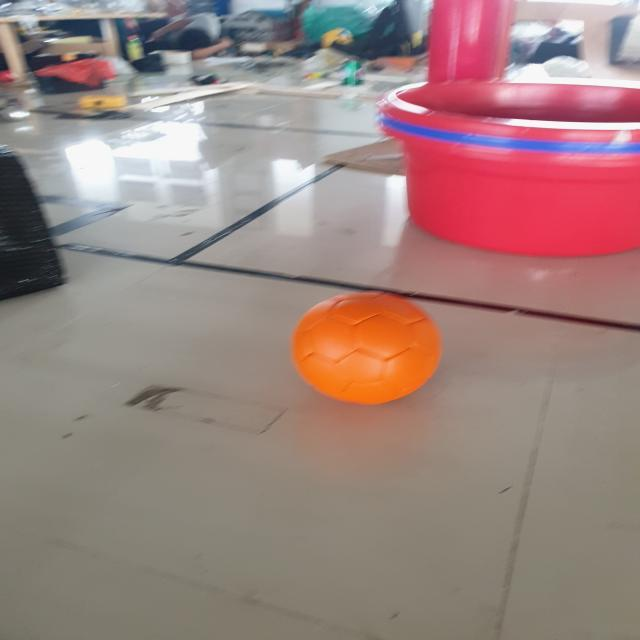bola: (288, 288, 448, 402)
